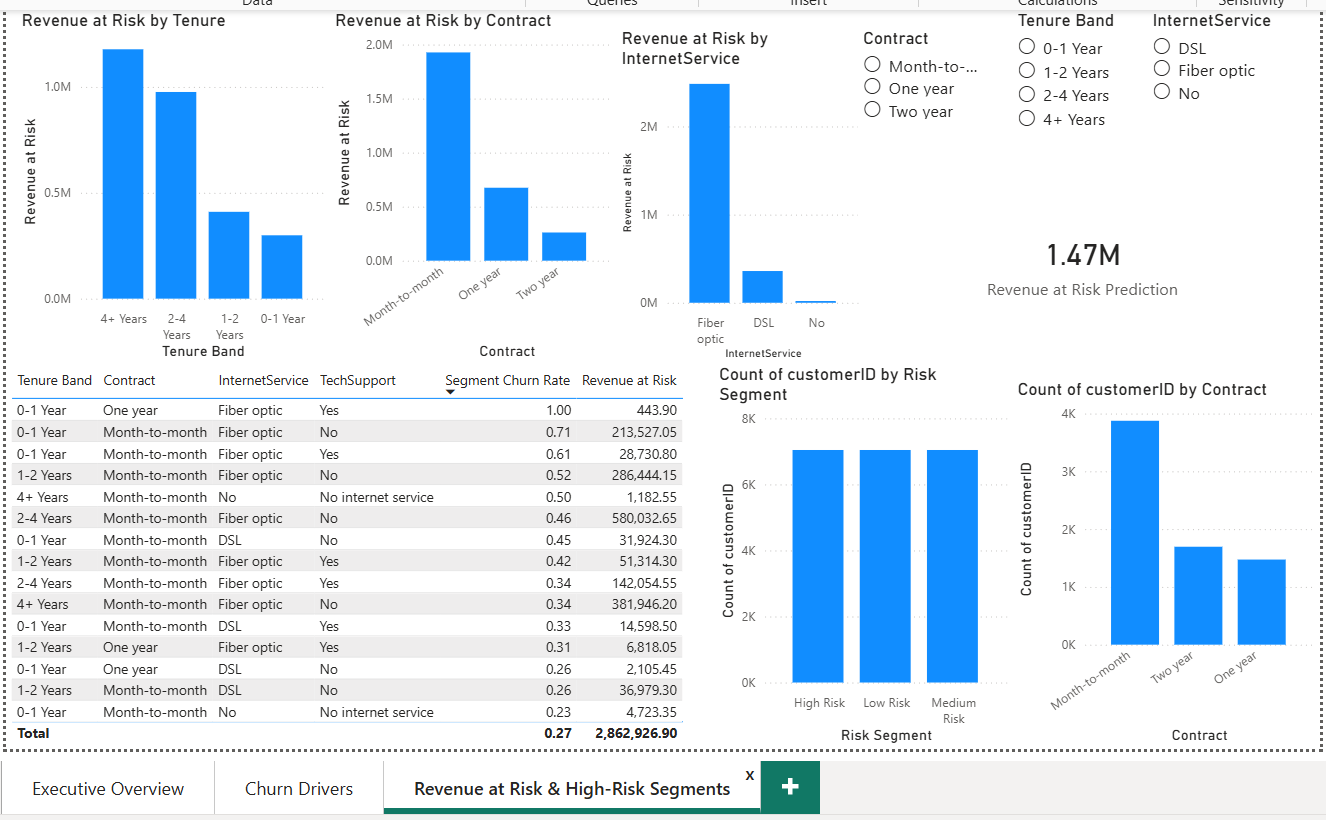

Layout of this report page (visuals, bound fields, positions):
{"tool":"powerbi","page":{"name":"Revenue at Risk & High-Risk Segments","canvas":[1280,720],"ordinal":2},"visuals":[{"type":"clusteredColumnChart","title":"Revenue at Risk by Tenure","fields":{"Category":["telco_clean.Tenure Band"],"Y":["telco_clean.Revenue at Risk"]},"box":[10.2,0,305.4,344.9],"z":0},{"type":"clusteredColumnChart","fields":{"Category":["telco_clean.Contract"],"Y":["telco_clean.Revenue at Risk"]},"box":[315.7,0,279.1,344.9],"z":1000},{"type":"clusteredColumnChart","fields":{"Category":["telco_clean.InternetService"],"Y":["telco_clean.Revenue at Risk"]},"box":[594.8,17.5,241.1,327.4],"z":2000},{"type":"tableEx","fields":{"Values":["telco_clean.Tenure Band","telco_clean.Contract","telco_clean.InternetService","telco_clean.TechSupport","telco_clean.Segment Churn Rate","telco_clean.Revenue at Risk"]},"box":[0,345.2,717.7,374],"z":3000},{"type":"clusteredColumnChart","fields":{"Category":["telco_with_predictions.Risk Segment"],"Y":["CountNonNull(telco_clean.customerID)"]},"box":[690.5,345.2,290.7,374],"z":4000},{"type":"card","fields":{"Values":["telco_with_predictions.Revenue at Risk Prediction"]},"box":[836,172.5,425.3,149.1],"z":5000},{"type":"clusteredColumnChart","fields":{"Category":["telco_clean.Contract"],"Y":["CountNonNull(telco_clean.customerID)"]},"box":[980.6,359.5,298.1,359.5],"z":6000},{"type":"listSlicer","fields":{"Values":["telco_clean.Contract"]},"box":[830.1,17.5,125.7,211.9],"z":7000},{"type":"listSlicer","fields":{"Values":["telco_clean.InternetService"]},"box":[1112.2,0,168.1,204.6],"z":8000},{"type":"listSlicer","fields":{"Values":["telco_clean.Tenure Band"]},"box":[980.6,0,116.9,216.3],"z":9000}]}

Visuals, with their boxes on the page's 1280x720 design canvas (x1, y1, x2, y2). These are canvas units, not pixel positions in the 1326x820 screenshot, which may show the page scaled, cropped or inside an application window:
"Revenue at Risk by Tenure" clusteredColumnChart: <region>10, 0, 316, 345</region>
clusteredColumnChart - telco_clean.Contract x telco_clean.Revenue at Risk: <region>316, 0, 595, 345</region>
clusteredColumnChart - telco_clean.InternetService x telco_clean.Revenue at Risk: <region>595, 18, 836, 345</region>
tableEx - telco_clean.Tenure Band x telco_clean.Contract: <region>0, 345, 718, 719</region>
clusteredColumnChart - telco_with_predictions.Risk Segment x CountNonNull(telco_clean.customerID): <region>690, 345, 981, 719</region>
card - telco_with_predictions.Revenue at Risk Prediction: <region>836, 172, 1261, 322</region>
clusteredColumnChart - telco_clean.Contract x CountNonNull(telco_clean.customerID): <region>981, 360, 1279, 719</region>
listSlicer - telco_clean.Contract: <region>830, 18, 956, 229</region>
listSlicer - telco_clean.InternetService: <region>1112, 0, 1280, 205</region>
listSlicer - telco_clean.Tenure Band: <region>981, 0, 1098, 216</region>
